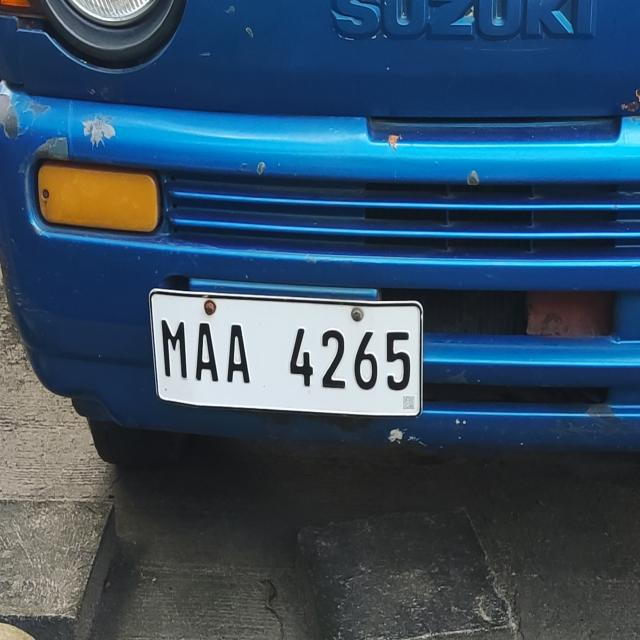plate: (147, 285, 426, 420)
